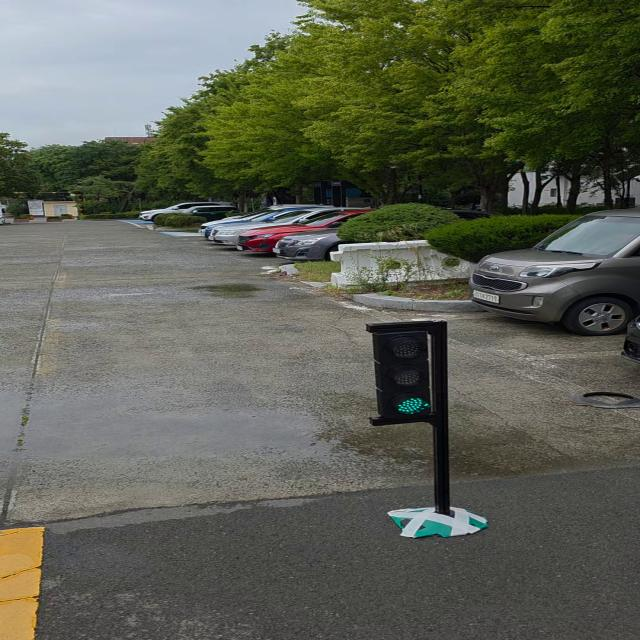green: (377, 328, 448, 422)
